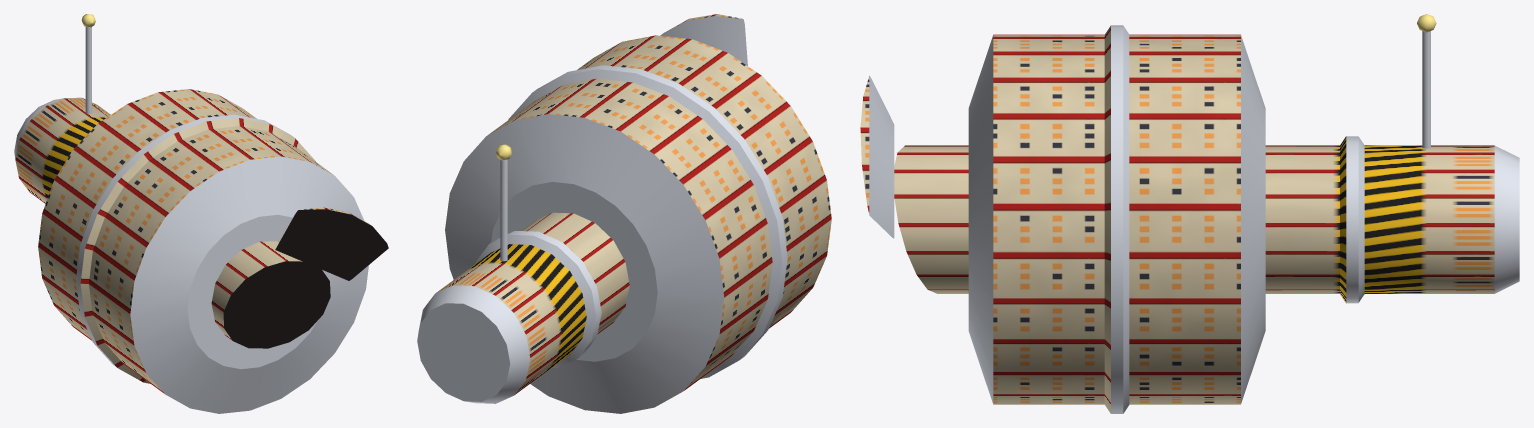
Rendered from manufacturing_center_debris1.obj.
3 renders of one model, left to right at view 1: azimuth 30°, elevation 25°; view 2: azimuth 150°, elevation 25°; view 3: azimuth 270°, elevation 25°, orthographic. The views are drawn at different scales.
Visible parts, largest first — view 1: smelter1, spine, smelter2, mast; view 2: smelter1, spine, smelter2, mast; view 3: smelter1, spine, smelter2, mast.
Boxes of the visible parts, x1,y1,x2,y2 form: smelter1: (38,89,368,413); spine: (14,97,330,348); smelter2: (275,207,388,280); mast: (85,27,91,114); smelter1: (445,35,831,413); spine: (417,212,629,403); smelter2: (660,14,747,65); mast: (500,159,507,261); smelter1: (968,25,1265,413); spine: (894,136,1519,303); smelter2: (860,75,894,238); mast: (1422,31,1430,148).
Bounding box in the file's own units: 63 × 68.1 × 106.
Materials: 4 (1 with a texture image).
